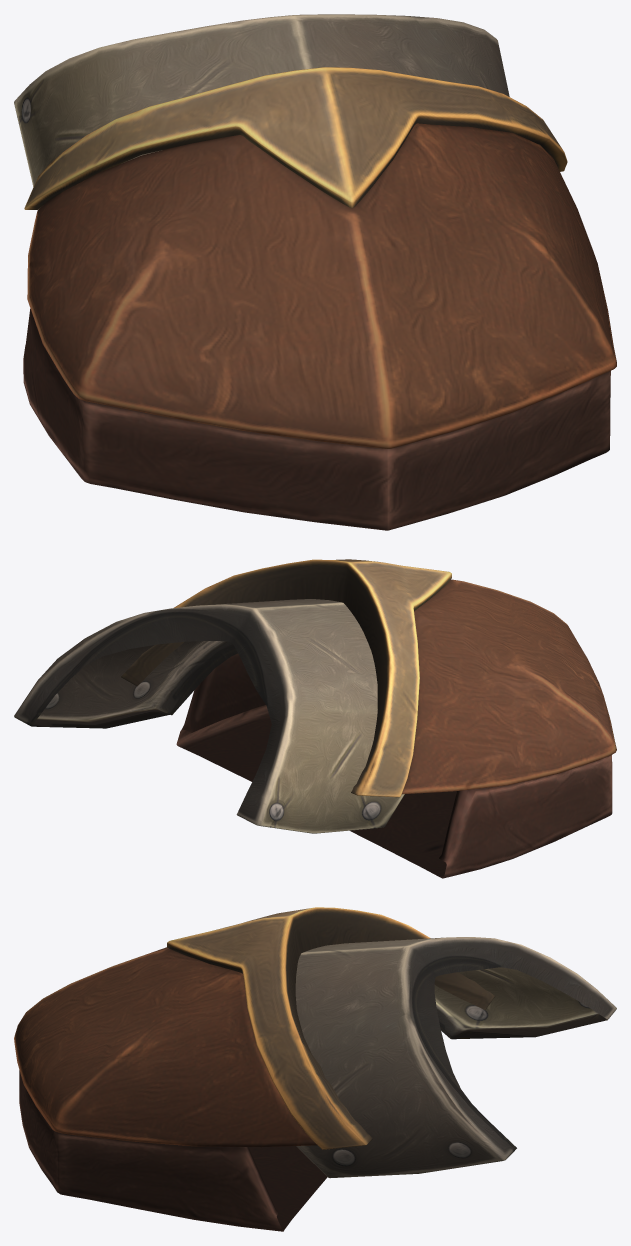
Rendered from sm_armor_dwarf_dhodin_boot_front.gltf.
3 views of the same model, one above another, from view 1: azimuth 30°, elevation 25°; view 2: azimuth 150°, elevation 25°; view 3: azimuth 270°, elevation 25° (orthographic). The views are drawn at different scales.
Parts seen in each view (by area): view 1: sm_armor_dwarf_dhodin_boot_front; view 2: sm_armor_dwarf_dhodin_boot_front; view 3: sm_armor_dwarf_dhodin_boot_front.
Part boxes in pixels (bbox=[...]): sm_armor_dwarf_dhodin_boot_front: bbox=[14, 14, 616, 530]; sm_armor_dwarf_dhodin_boot_front: bbox=[14, 559, 616, 878]; sm_armor_dwarf_dhodin_boot_front: bbox=[14, 907, 616, 1231].
Size of the model in its own units: 0.3264 by 0.1575 by 0.3737.
1 material, 1 textured.
